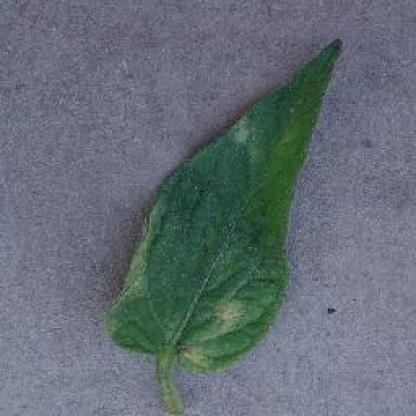bad leaf: (53, 24, 362, 414)
